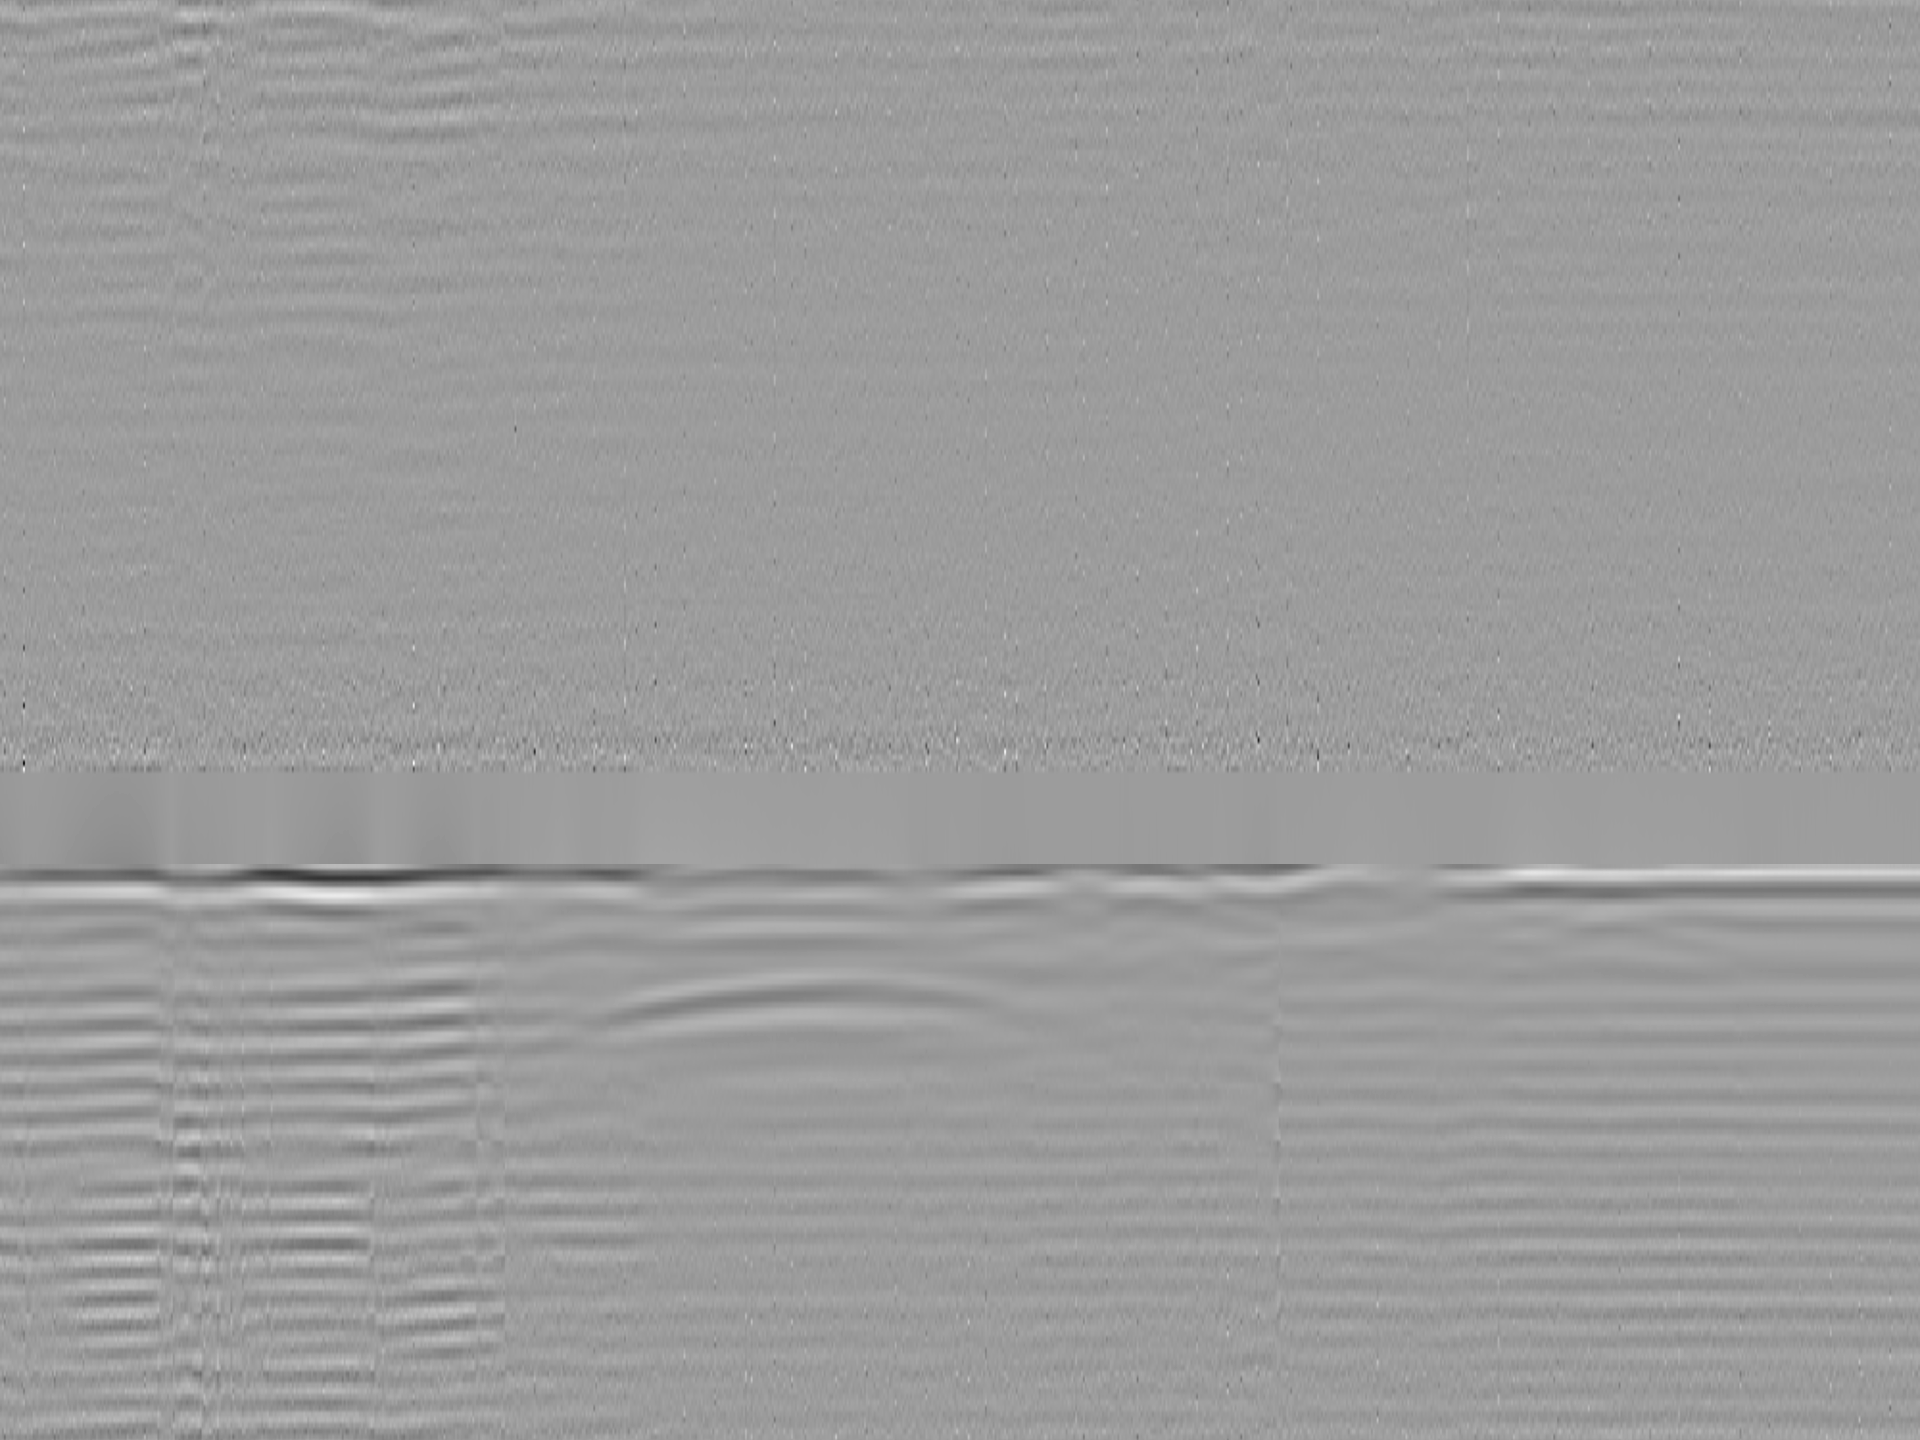Tunnel: (559, 965, 1092, 1039)
